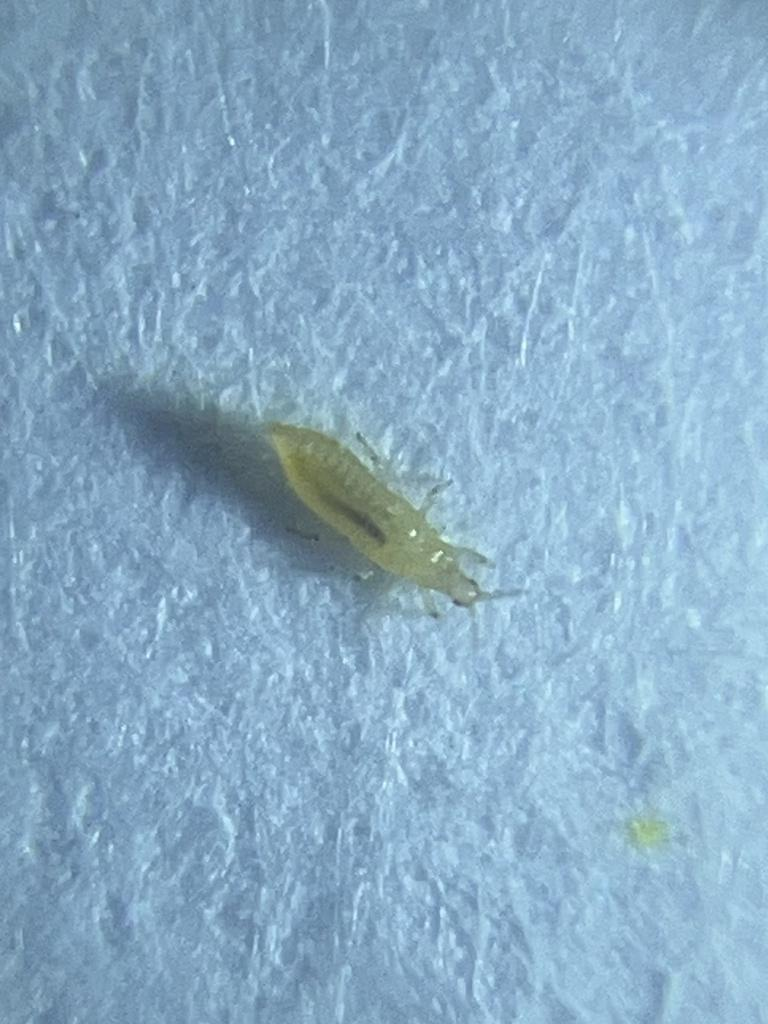tiny_pests: (237, 386, 561, 667)
